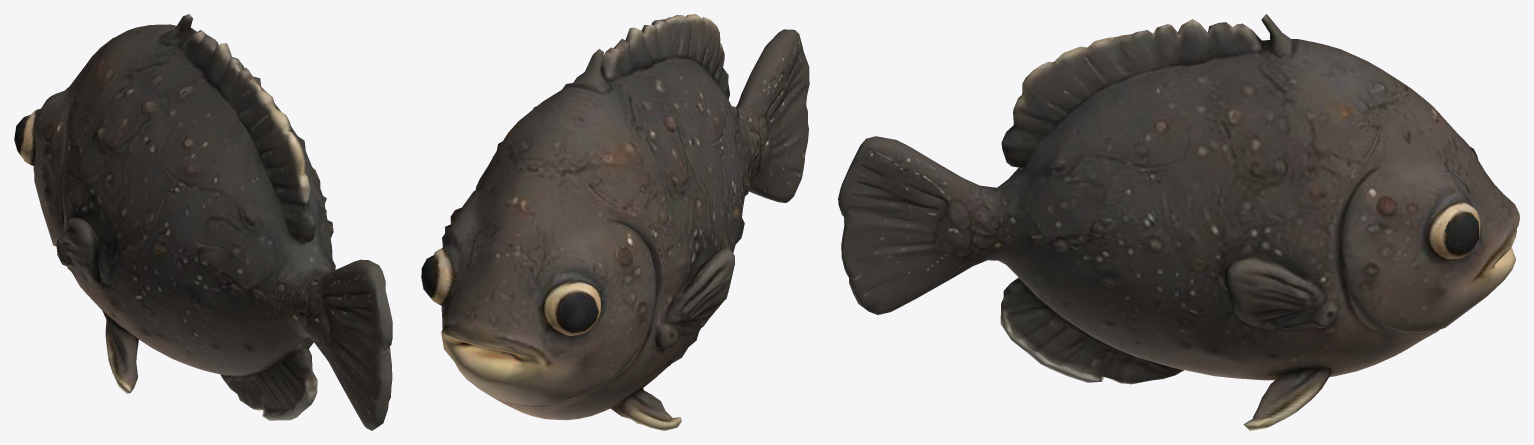
File: jwichi.glb
The picture shows the model from 3 angles, left to right: view 1: azimuth 30°, elevation 25°; view 2: azimuth 150°, elevation 25°; view 3: azimuth 270°, elevation 25°; orthographic projection. The views are drawn at different scales.
Parts seen in each view (by area): view 1: tripo_node_0e3690f4-e4b2-437f-bbb3-5a0114196580; view 2: tripo_node_0e3690f4-e4b2-437f-bbb3-5a0114196580; view 3: tripo_node_0e3690f4-e4b2-437f-bbb3-5a0114196580.
Boxes of the visible parts, x1=… form: tripo_node_0e3690f4-e4b2-437f-bbb3-5a0114196580: x1=14, y1=14, x2=392, y2=430; tripo_node_0e3690f4-e4b2-437f-bbb3-5a0114196580: x1=421, y1=14, x2=809, y2=430; tripo_node_0e3690f4-e4b2-437f-bbb3-5a0114196580: x1=838, y1=14, x2=1519, y2=430.
Size of the model in its own units: 0.4343 by 0.6169 by 1.
1 material, 1 textured.
